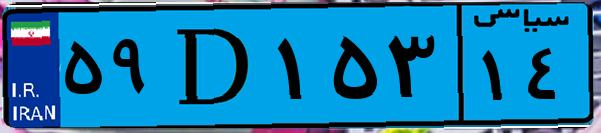1: (270, 28, 330, 110), (475, 38, 525, 113)
3: (385, 28, 445, 110)
4: (525, 38, 570, 115)
5: (330, 28, 385, 110), (57, 26, 110, 100)
9: (110, 28, 158, 98)
D: (158, 12, 270, 120)
